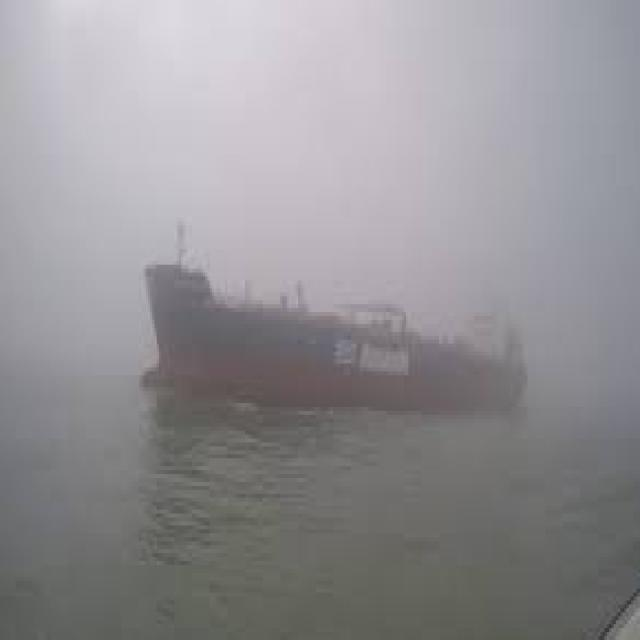cargoship: (141, 226, 533, 423)
